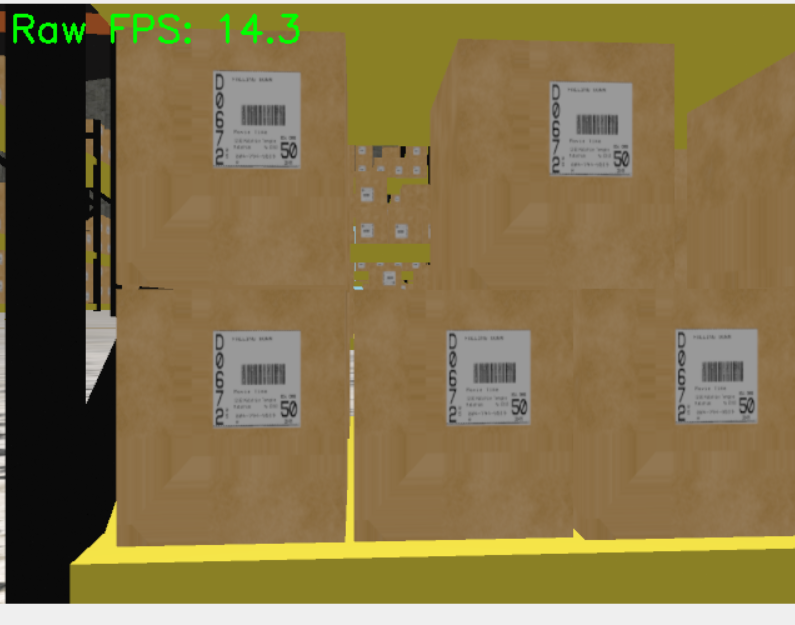barcode: (212, 68, 302, 168), (212, 330, 301, 427), (445, 329, 532, 425), (674, 327, 759, 425), (548, 80, 633, 177)
